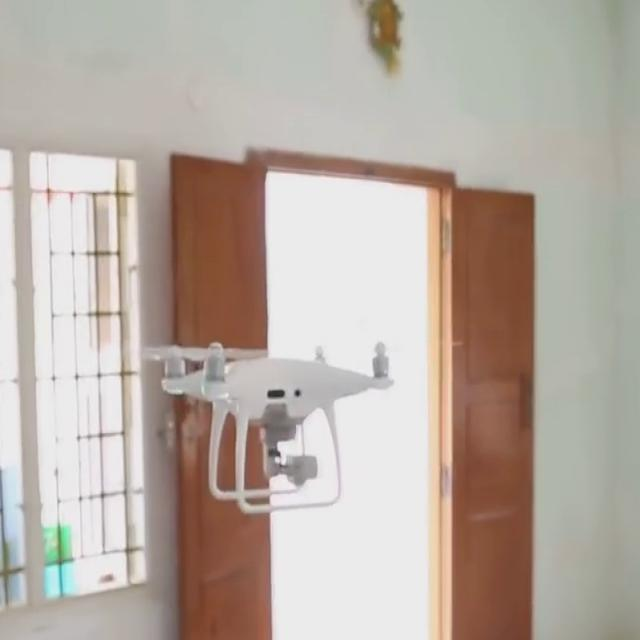drone: (127, 314, 400, 524)
